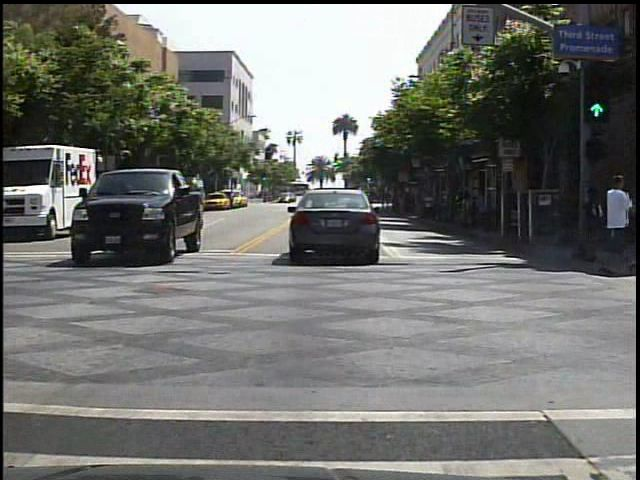person: (602, 164, 635, 271), (587, 172, 619, 269), (420, 189, 439, 224)
